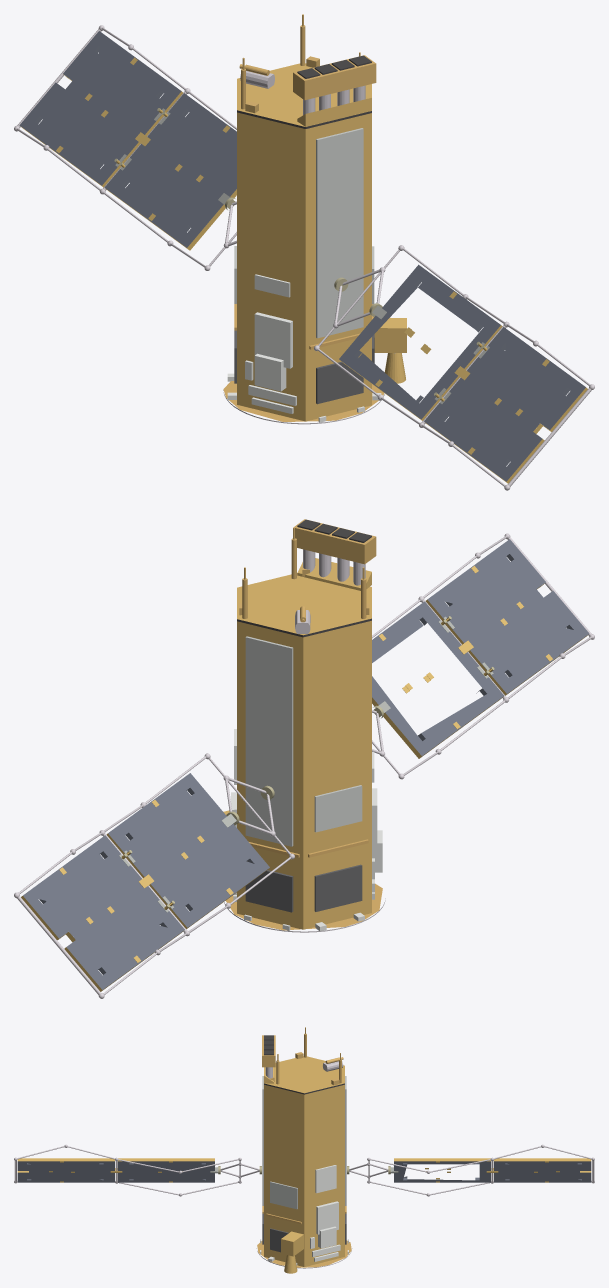
Rendered from oco2.glb.
The picture shows the model from 3 angles, top to bottom: view 1: azimuth 30°, elevation 25°; view 2: azimuth 150°, elevation 25°; view 3: azimuth 270°, elevation 25°; orthographic projection. The views are drawn at different scales.
Visible parts, largest first — view 1: Layer_0; view 2: Layer_0; view 3: Layer_0.
Part boxes in pixels (x1,y1,x2,y2): Layer_0: [14, 14, 594, 490]; Layer_0: [14, 519, 594, 998]; Layer_0: [14, 1027, 594, 1273].
Bounding box in the file's own units: 7.63 × 15.41 × 39.87.
1 material, 1 textured.
